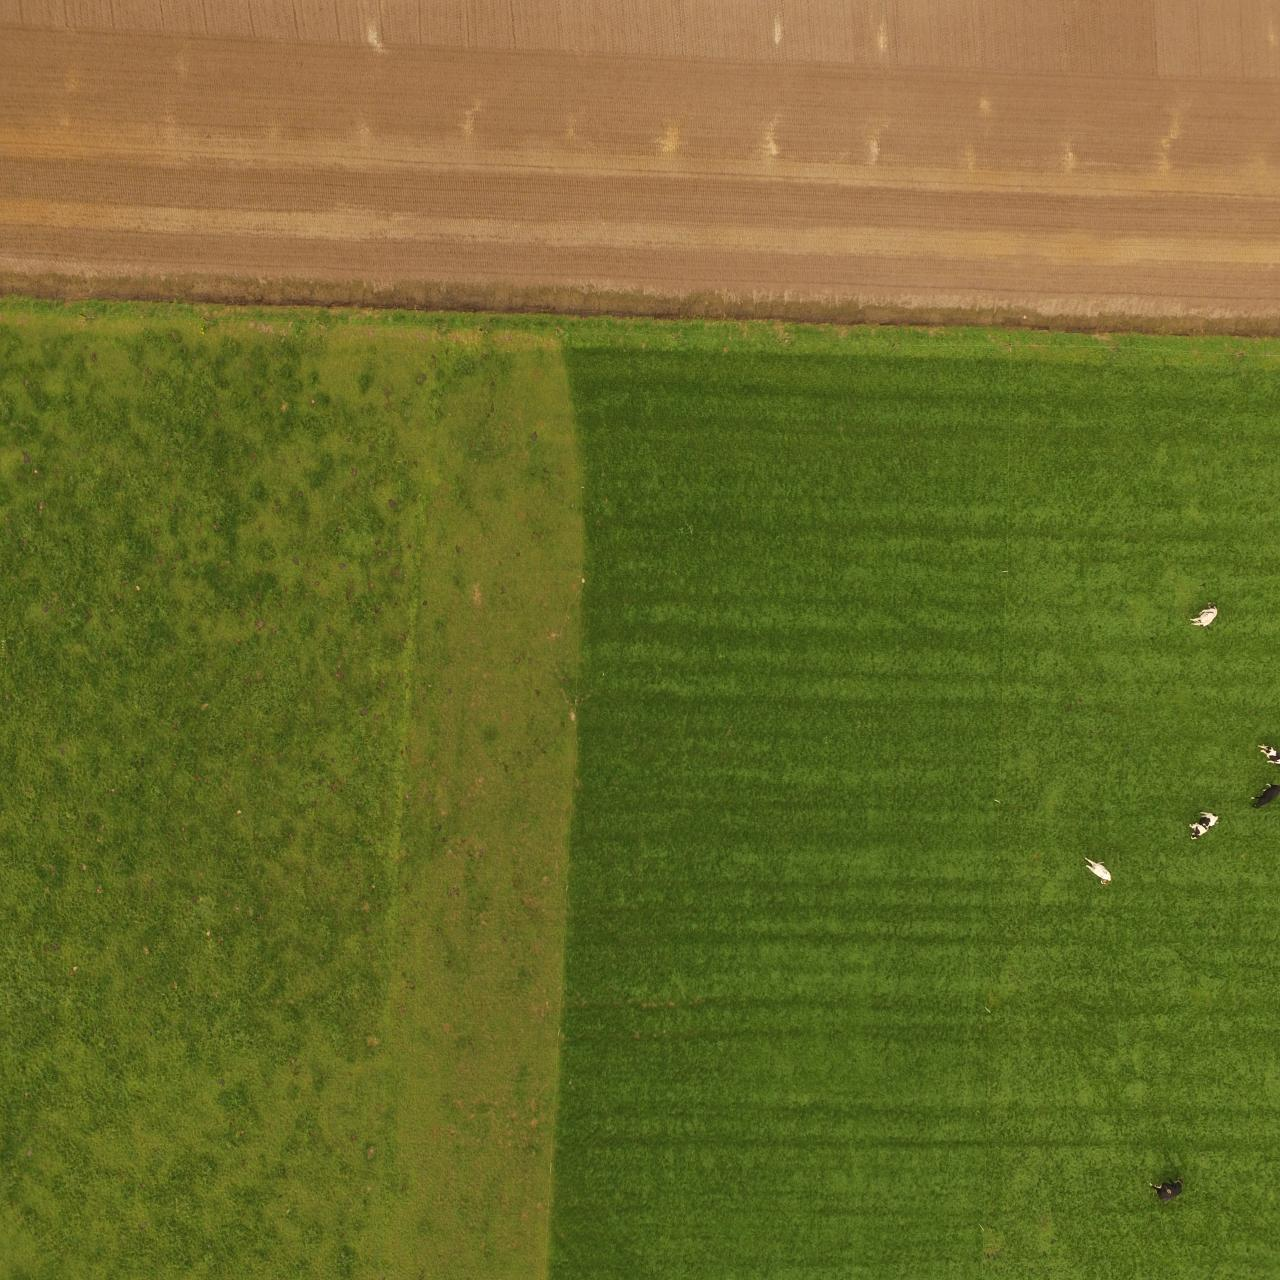cow: (1083, 855, 1116, 890), (1145, 1175, 1185, 1203), (1186, 600, 1218, 631), (1186, 812, 1221, 838)
